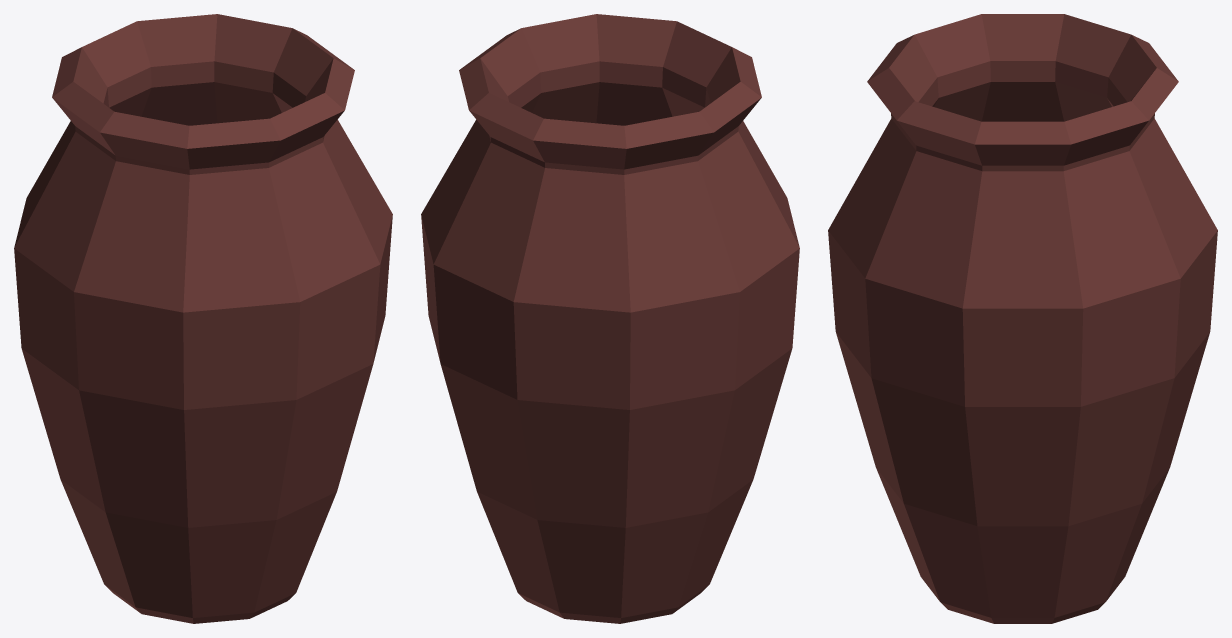
The model's file is Medium_Pot_v002.fbx.
The picture shows the model from 3 angles, left to right: view 1: azimuth 30°, elevation 25°; view 2: azimuth 150°, elevation 25°; view 3: azimuth 270°, elevation 25°; orthographic projection.
Visible parts, largest first — view 1: Cylinder; view 2: Cylinder; view 3: Cylinder.
Part boxes in pixels (x1,y1,x2,y2): Cylinder: (14,14,392,623); Cylinder: (421,14,799,623); Cylinder: (828,14,1217,623).
Bounding box in the file's own units: 2.85 × 4.4 × 3.
